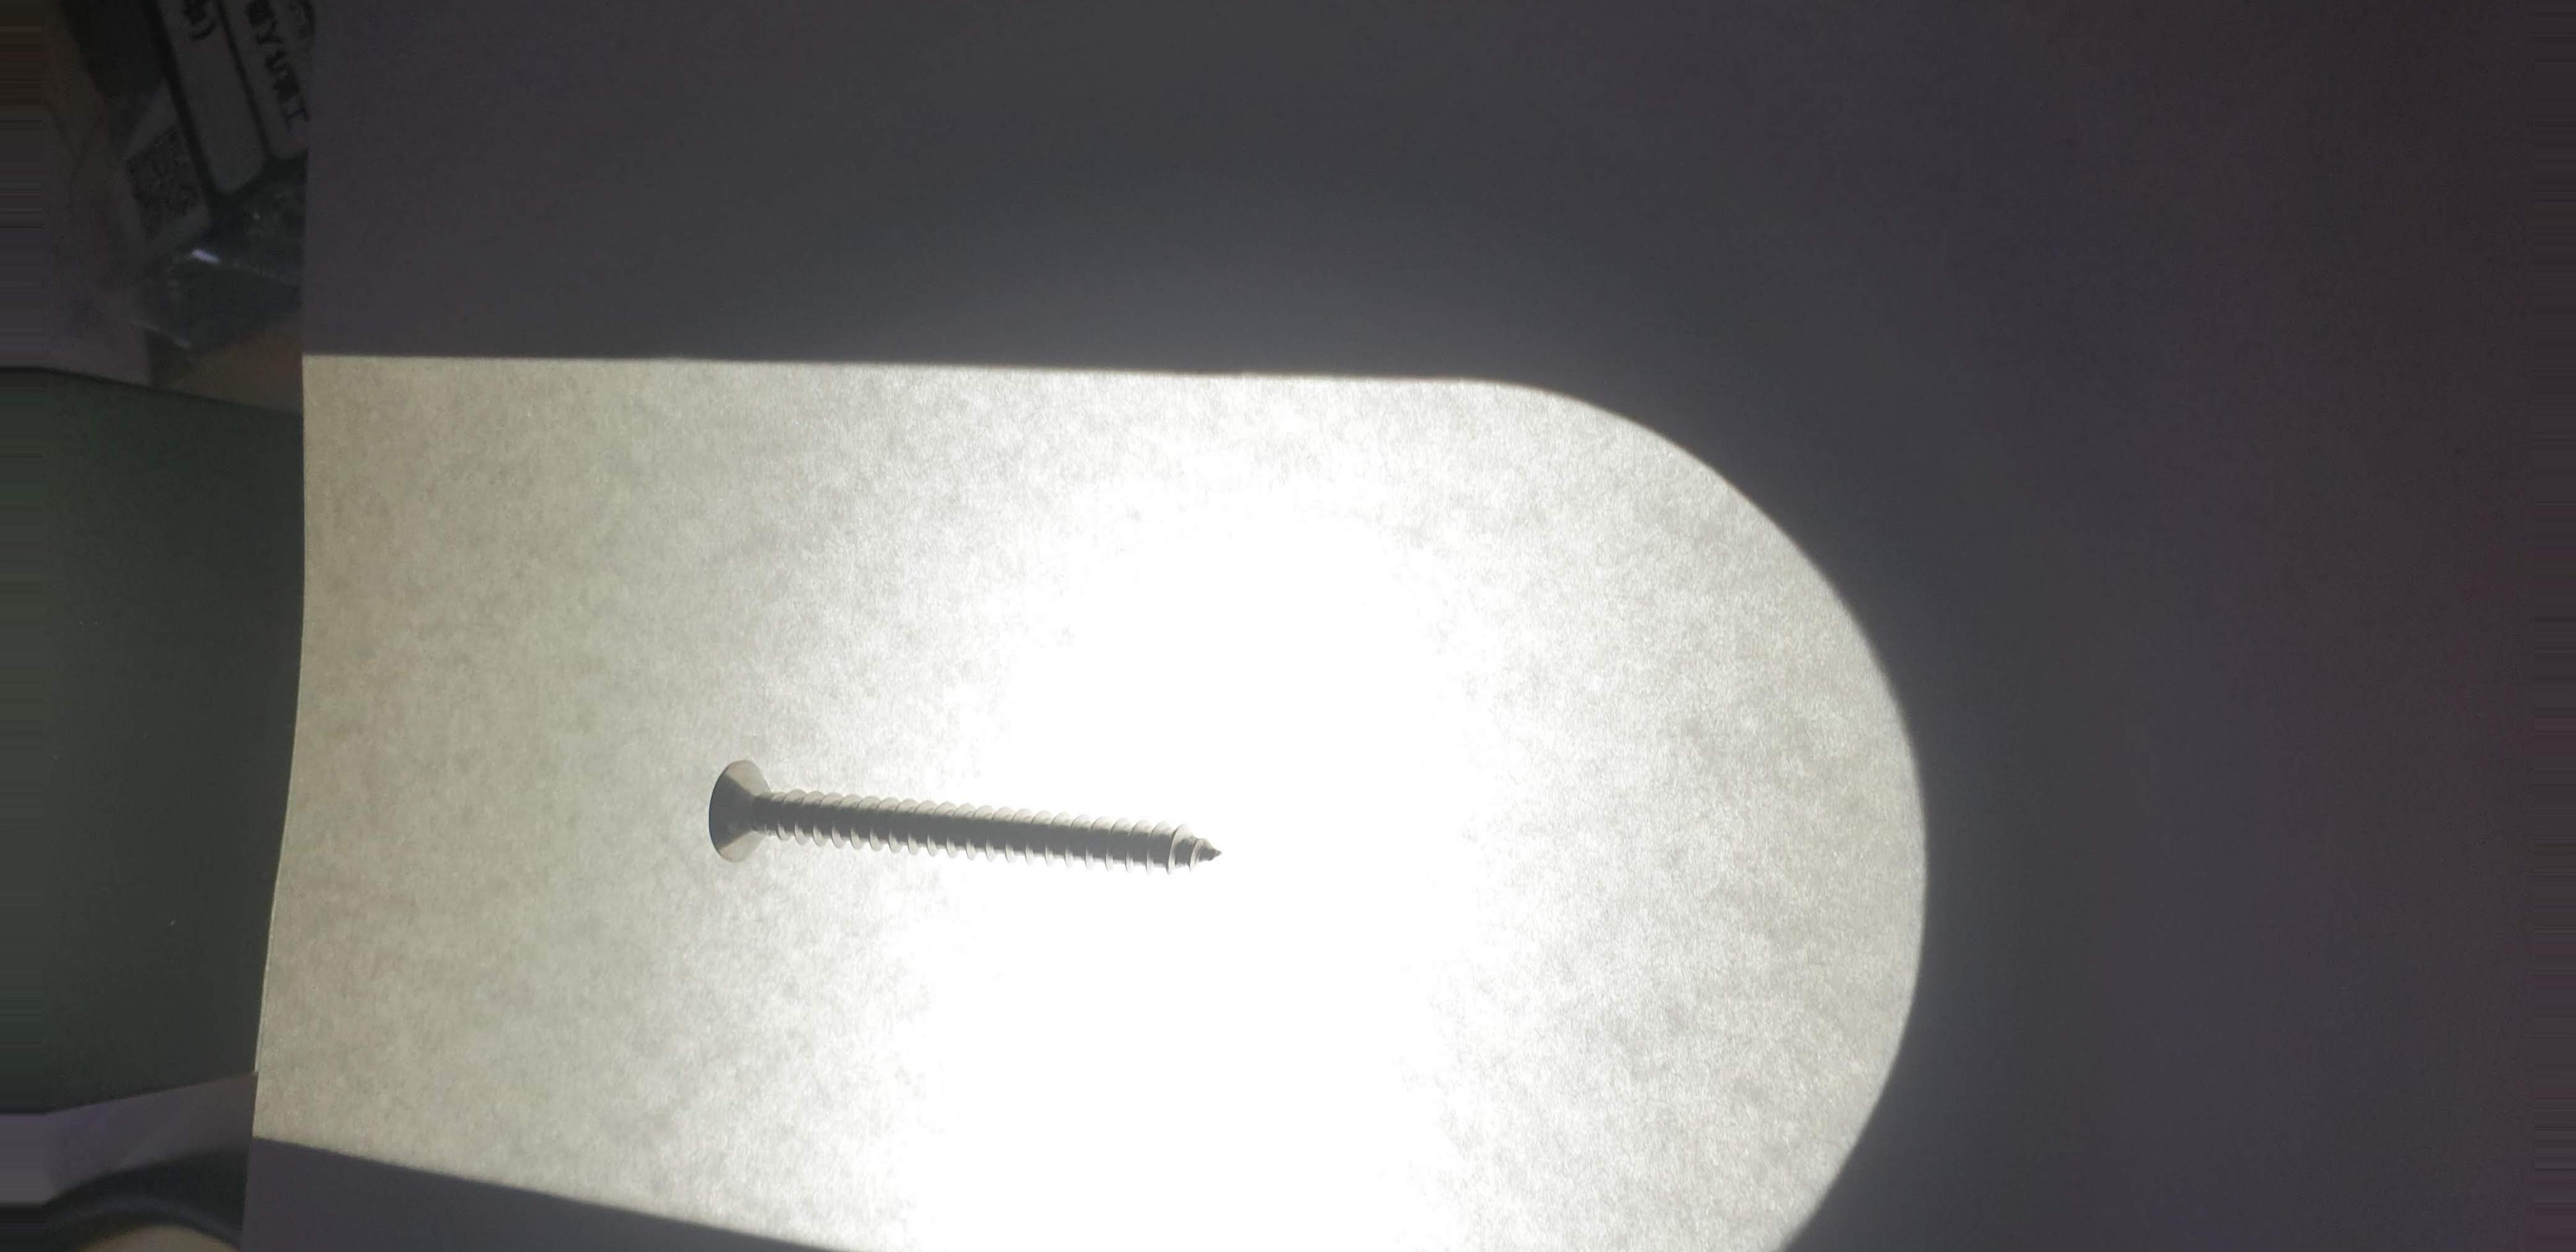S001: (680, 744, 1249, 900)
